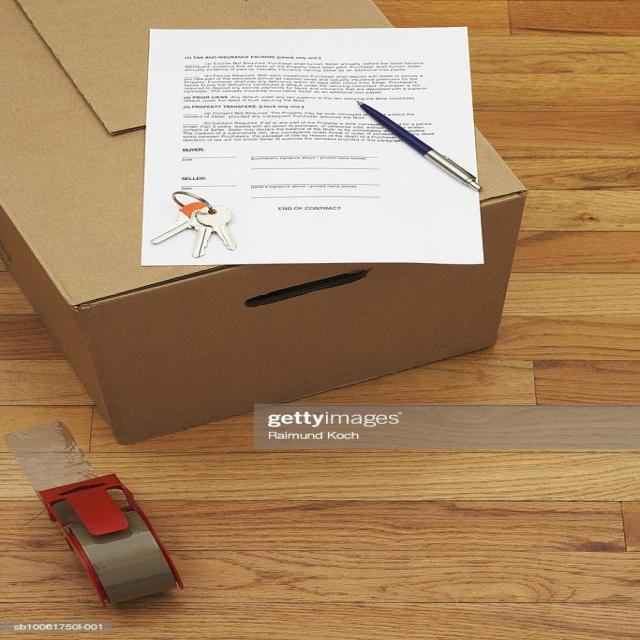cardboard: (0, 0, 532, 446)
